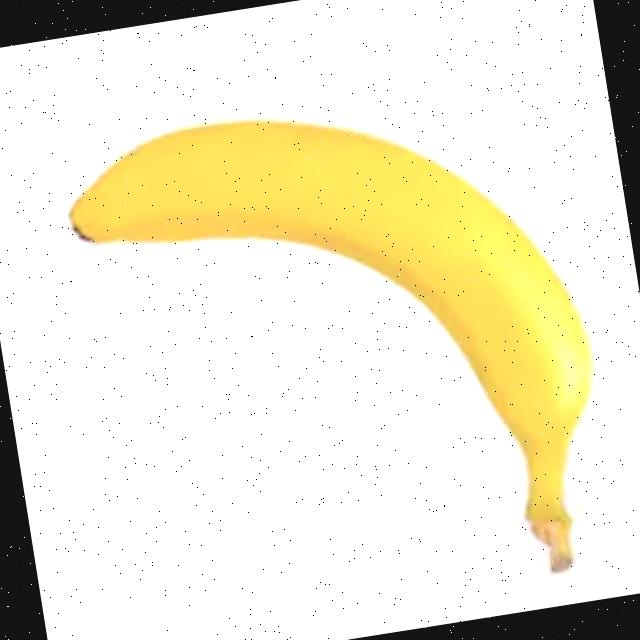Ripe: (53, 65, 626, 613)
